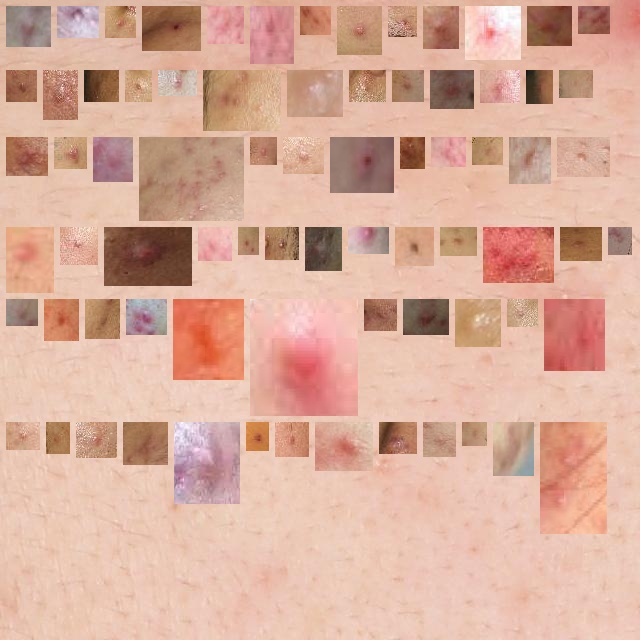papule: (258, 307, 350, 408), (147, 145, 236, 213), (540, 430, 599, 526), (181, 307, 236, 372), (182, 430, 232, 496), (112, 235, 184, 278), (211, 78, 273, 123), (552, 307, 597, 363), (491, 235, 546, 275), (338, 145, 386, 185), (14, 235, 46, 285), (473, 14, 513, 52), (323, 430, 365, 463), (150, 14, 193, 43), (295, 78, 335, 109), (258, 14, 286, 56), (463, 307, 493, 339), (345, 14, 374, 47), (501, 430, 526, 468), (565, 145, 602, 169), (517, 145, 543, 176), (131, 430, 160, 457), (14, 14, 43, 39), (535, 14, 564, 38), (101, 145, 125, 174), (438, 77, 466, 101), (51, 78, 70, 112), (65, 6, 91, 30), (411, 307, 441, 327), (14, 145, 40, 168), (313, 235, 334, 263), (431, 14, 451, 41), (403, 235, 426, 258), (291, 145, 316, 166), (134, 307, 159, 327), (84, 430, 109, 450), (52, 307, 71, 333), (68, 235, 90, 257), (356, 227, 381, 246), (568, 235, 594, 253), (215, 14, 236, 36), (93, 307, 112, 331), (488, 78, 512, 95), (387, 430, 409, 446), (283, 430, 301, 449), (357, 78, 378, 94), (206, 235, 224, 253), (431, 430, 448, 449), (273, 235, 291, 252), (92, 78, 111, 94), (448, 235, 469, 248), (62, 145, 79, 161), (372, 307, 389, 323), (439, 145, 458, 159), (400, 78, 416, 94), (113, 14, 128, 30), (14, 78, 29, 94), (166, 78, 189, 88), (567, 78, 585, 90), (14, 430, 32, 442), (534, 78, 545, 96), (308, 14, 323, 27), (396, 14, 409, 29), (586, 14, 602, 26), (480, 145, 495, 157), (515, 307, 530, 319), (133, 78, 144, 94), (14, 307, 30, 318), (408, 145, 417, 161), (258, 145, 269, 157), (54, 430, 62, 446), (616, 235, 624, 247), (254, 430, 261, 443), (470, 430, 479, 438), (246, 235, 251, 247)
